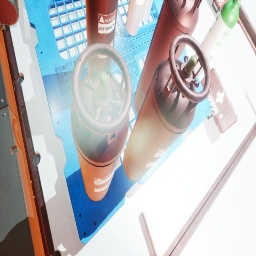0: (194, 0, 242, 78), (126, 0, 145, 36), (140, 0, 153, 22)
FirstAidBox ,: (200, 67, 237, 134), (211, 0, 229, 14)
NitrogenTank ,: (123, 33, 211, 182), (71, 43, 133, 202), (134, 0, 202, 116), (85, 0, 119, 74), (0, 0, 19, 26)
